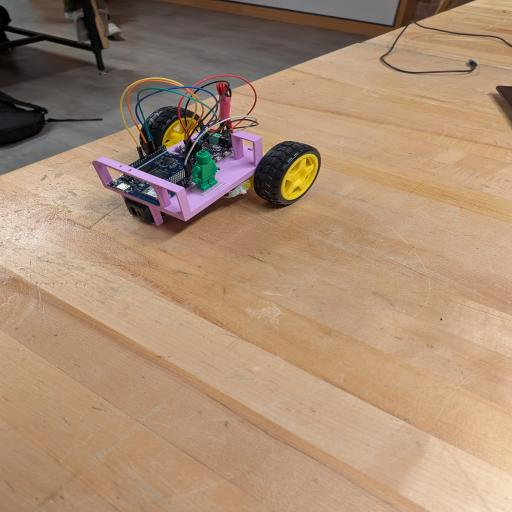Minifig: (192, 150, 219, 191)
